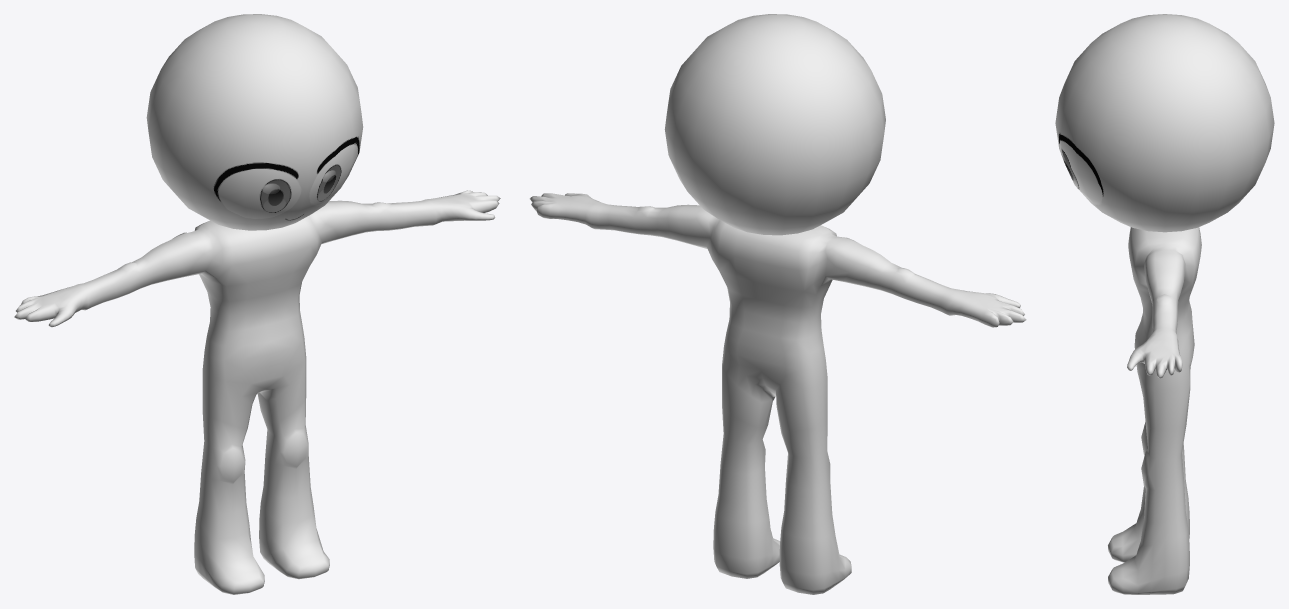
Rendered from PlayerModel.glb.
3 renders of one model, left to right at view 1: azimuth 30°, elevation 25°; view 2: azimuth 150°, elevation 25°; view 3: azimuth 270°, elevation 25°, orthographic. The views are drawn at different scales.
Visible parts, largest first — view 1: MaleMesh; view 2: MaleMesh; view 3: MaleMesh.
Part boxes in pixels (x1,y1,x2,y2): MaleMesh: (14,14,500,594); MaleMesh: (529,14,1026,594); MaleMesh: (1055,14,1274,594).
Size of the model in its own units: 1.44 by 1.53 by 0.5562.
3 materials, 3 textured.
